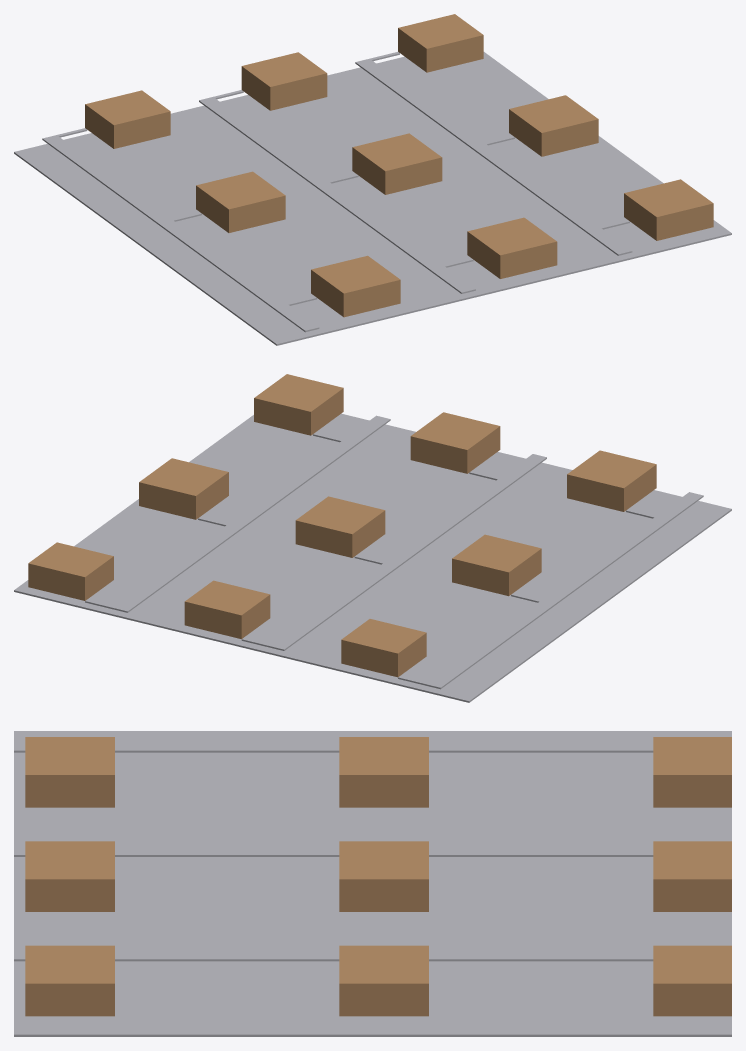
Rendered from city_c03_01.glb.
The picture shows the model from 3 angles, top to bottom: view 1: azimuth 30°, elevation 25°; view 2: azimuth 150°, elevation 25°; view 3: azimuth 270°, elevation 25°; orthographic projection. The views are drawn at different scales.
Visible parts, largest first — view 1: terrain_east_proxy__c03_01, road_east_2__c03_01, road_east_4__c03_01, road_east_3__c03_01, building_038__c03_01, building_048__c03_01, building_047__c03_01, building_037__c03_01, building_039__c03_01, building_049__c03_01, building_028__c03_01, building_029__c03_01 (+1 smaller); view 2: terrain_east_proxy__c03_01, road_east_4__c03_01, road_east_2__c03_01, road_east_3__c03_01, building_048__c03_01, building_038__c03_01, building_039__c03_01, building_037__c03_01, building_047__c03_01, building_049__c03_01, building_028__c03_01, building_027__c03_01 (+1 smaller); view 3: terrain_east_proxy__c03_01, building_037__c03_01, building_047__c03_01, building_038__c03_01, building_039__c03_01, building_048__c03_01, building_049__c03_01, road_east_2__c03_01, building_027__c03_01, building_028__c03_01, building_029__c03_01, road_east_4__c03_01 (+1 smaller).
Part boxes in pixels (x1,y1,x2,y2): terrain_east_proxy__c03_01: (14,52,731,345); road_east_2__c03_01: (355,58,632,255); road_east_4__c03_01: (42,135,319,332); road_east_3__c03_01: (199,97,475,293); building_038__c03_01: (352,133,442,194); building_048__c03_01: (467,217,557,278); building_047__c03_01: (624,179,713,240); building_037__c03_01: (509,95,598,156); building_039__c03_01: (196,171,285,232); building_049__c03_01: (311,255,400,317); building_028__c03_01: (241,52,327,110); building_029__c03_01: (85,90,170,148); terrain_east_proxy__c03_01: (14,413,731,702); road_east_4__c03_01: (426,492,703,689); road_east_2__c03_01: (113,415,390,612); road_east_3__c03_01: (270,454,546,650); building_048__c03_01: (410,412,500,473); building_038__c03_01: (295,496,385,557); building_039__c03_01: (452,534,541,596); building_037__c03_01: (139,458,228,519); building_047__c03_01: (254,374,343,435); building_049__c03_01: (567,450,656,511); building_028__c03_01: (184,580,270,638); building_027__c03_01: (28,542,113,600); terrain_east_proxy__c03_01: (14,731,731,1036); building_037__c03_01: (339,945,428,1016); building_047__c03_01: (25,945,114,1016); building_038__c03_01: (339,841,428,911); building_039__c03_01: (339,737,428,807); building_048__c03_01: (25,841,114,911); building_049__c03_01: (25,737,114,807); road_east_2__c03_01: (14,949,653,961); building_027__c03_01: (653,945,731,1016); building_028__c03_01: (653,841,731,911); building_029__c03_01: (653,737,731,807); road_east_4__c03_01: (14,741,653,752).
Size of the model in its own units: 128 by 8.6 by 128.
